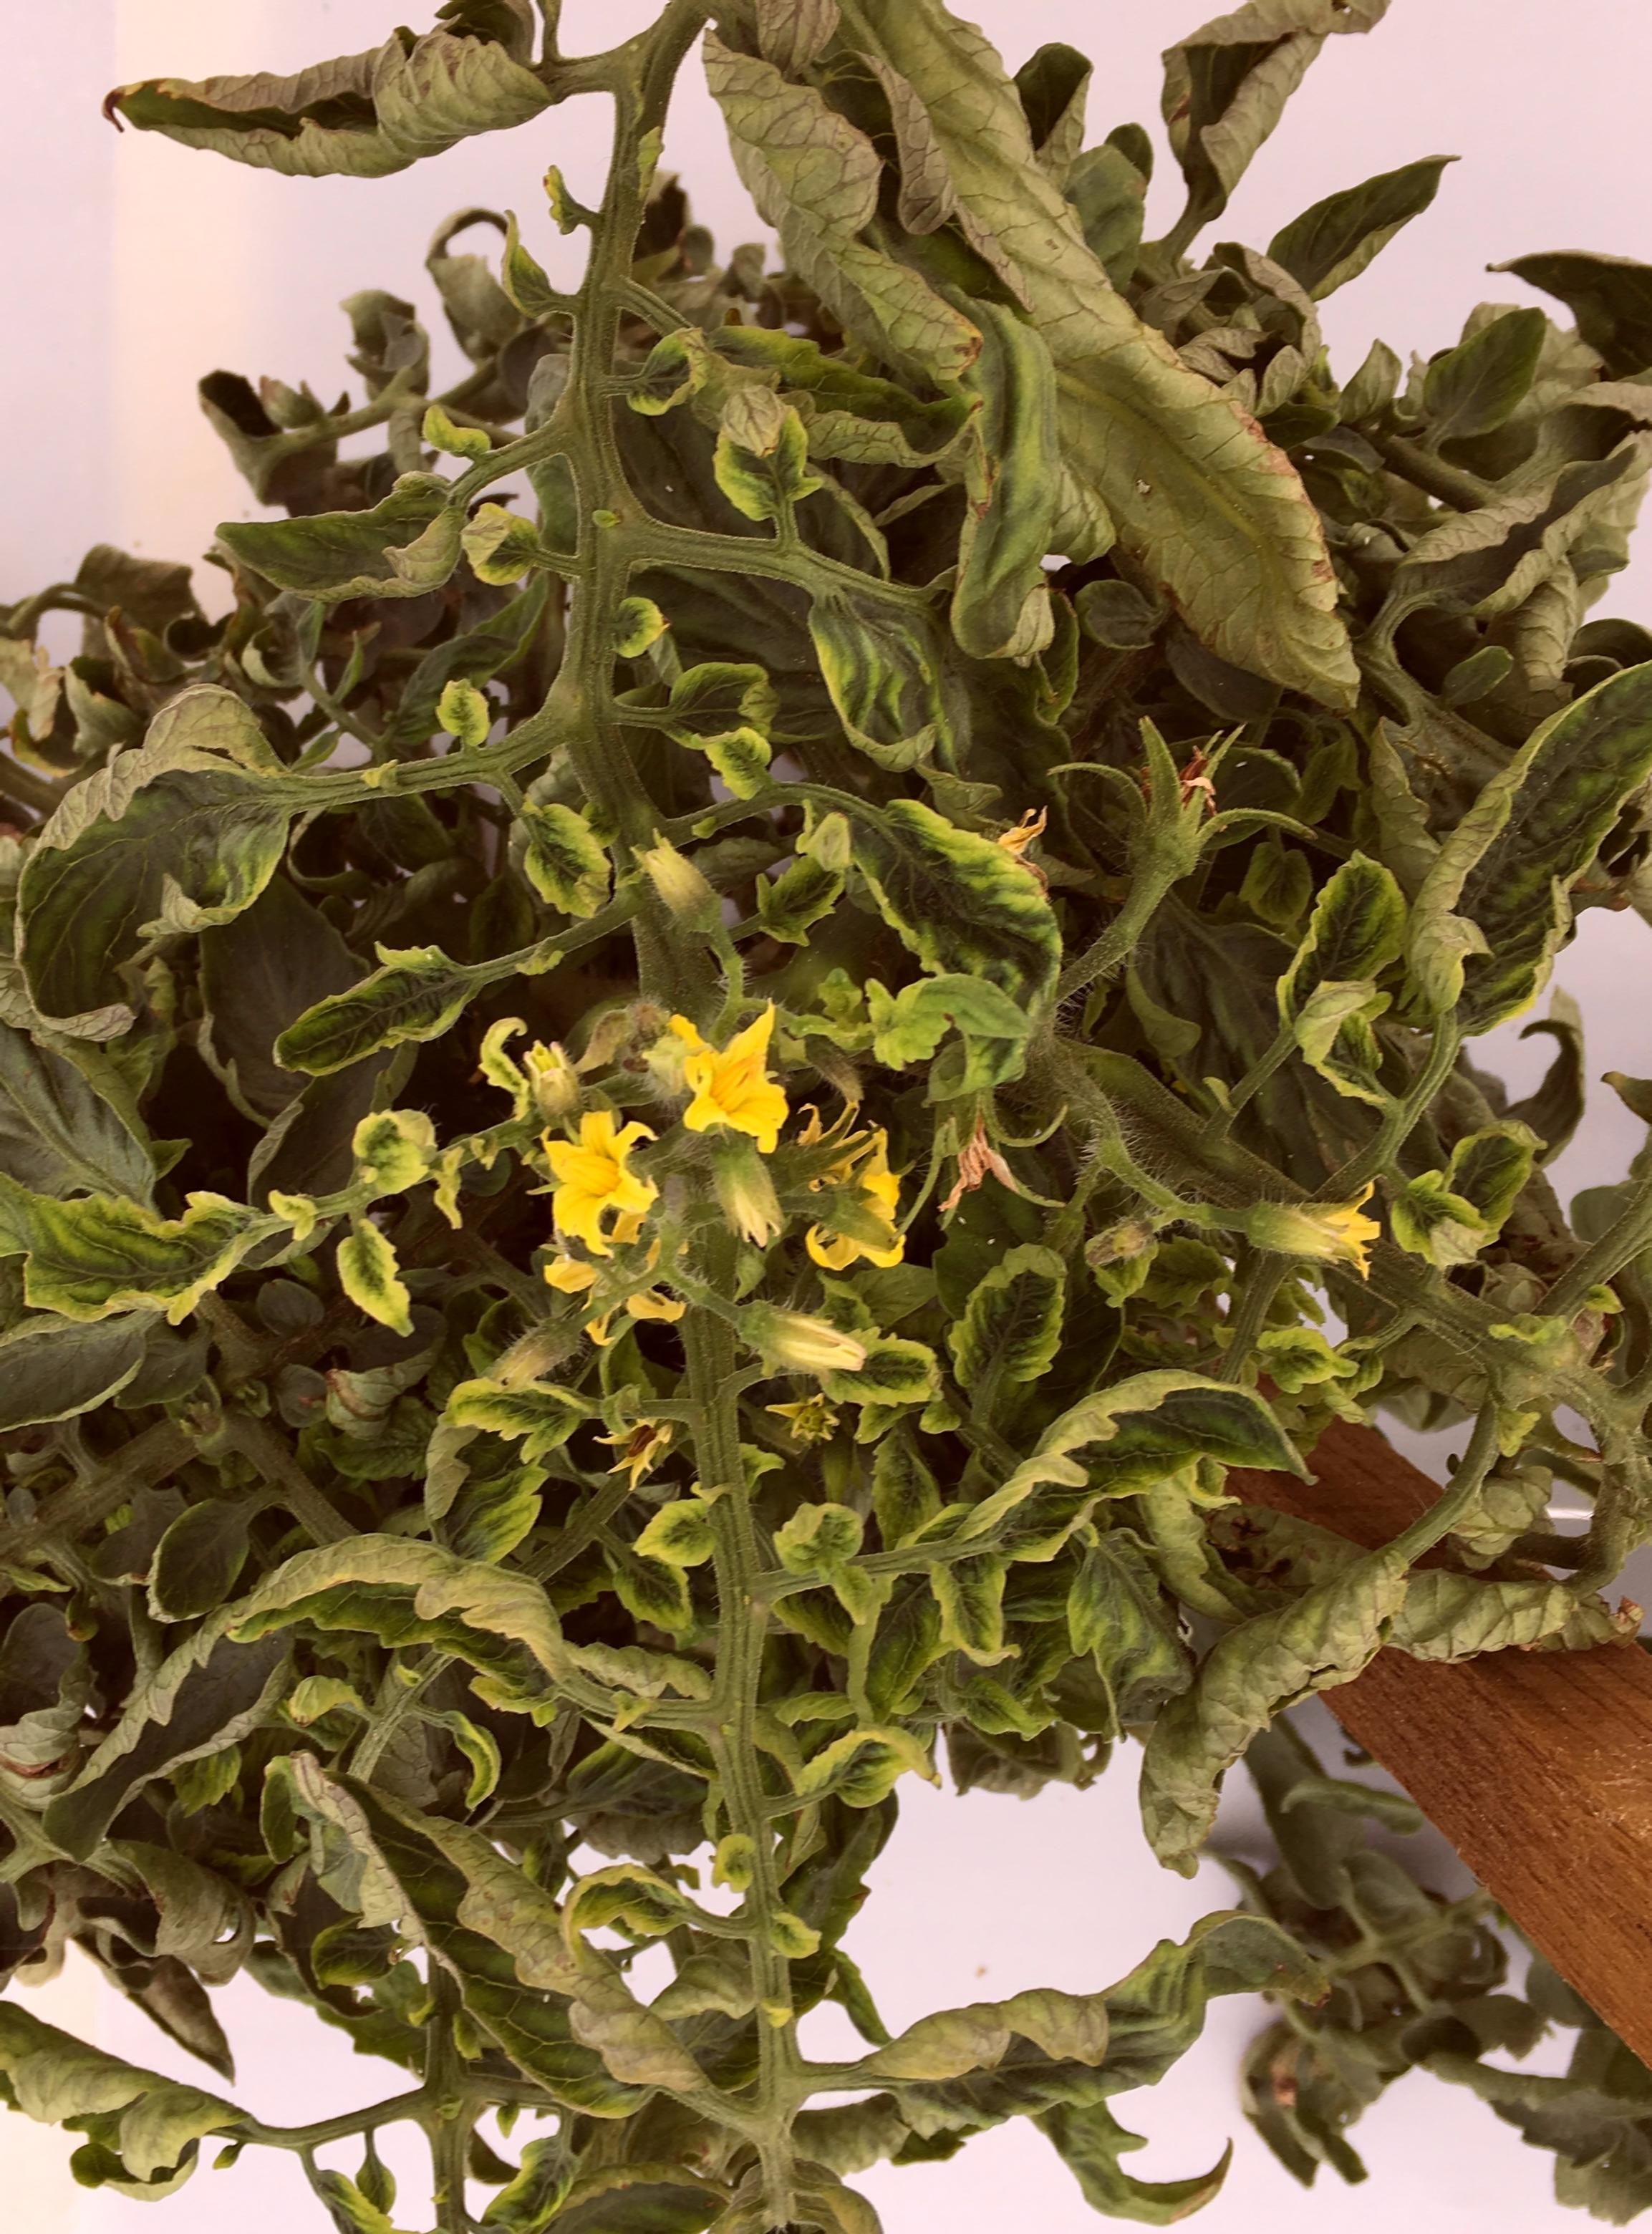Tomato leaf yellow virus: (5, 638, 316, 1075), (115, 1540, 684, 1774), (914, 1348, 1319, 1663), (810, 777, 1093, 1107), (779, 581, 1074, 859), (0, 1084, 295, 1356), (1268, 817, 1447, 1112), (937, 1242, 1098, 1415)
